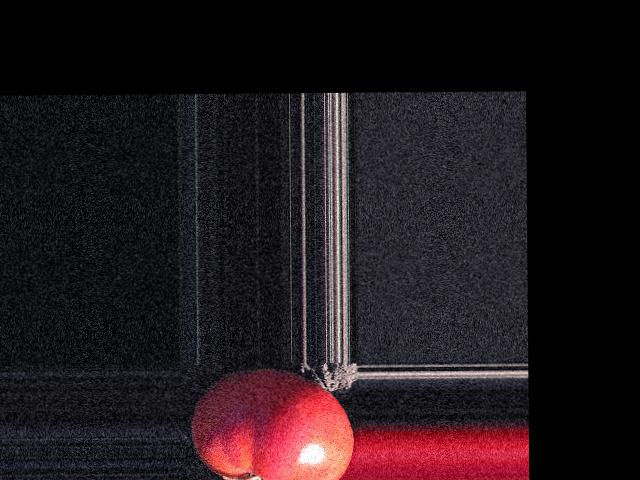tomato: (190, 367, 353, 480)
